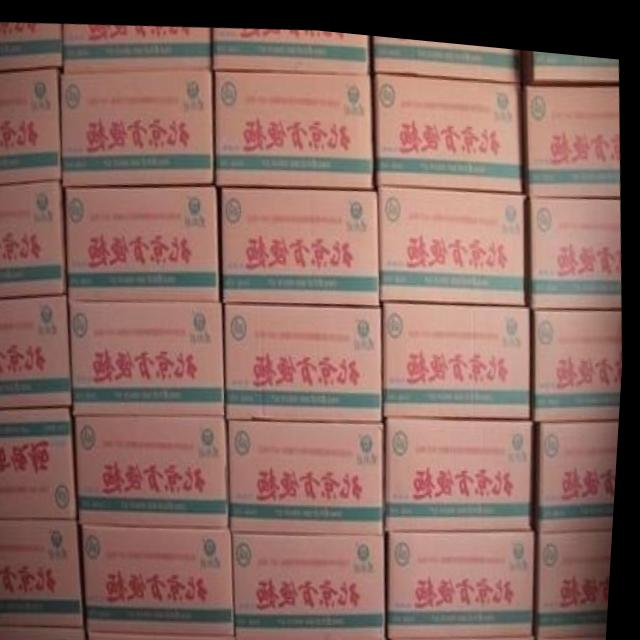box: (223, 179, 383, 300), (213, 63, 376, 180), (66, 179, 224, 299), (72, 296, 231, 414), (58, 67, 215, 183), (227, 301, 386, 414), (379, 178, 531, 295), (231, 414, 391, 525), (385, 294, 535, 410), (374, 68, 523, 182), (88, 522, 241, 632), (238, 524, 391, 631), (80, 416, 232, 523), (391, 412, 536, 520), (395, 522, 540, 627), (523, 71, 622, 184), (528, 185, 624, 299), (536, 294, 625, 408), (0, 517, 90, 624), (0, 406, 82, 518), (544, 408, 623, 520), (0, 295, 76, 407), (541, 519, 618, 626), (0, 180, 69, 297), (0, 64, 62, 185), (64, 22, 210, 72), (211, 23, 369, 68), (373, 28, 519, 71), (0, 22, 64, 69), (522, 40, 618, 71), (399, 624, 542, 640), (94, 627, 243, 640), (0, 624, 93, 640), (244, 630, 392, 640), (544, 622, 613, 640)
